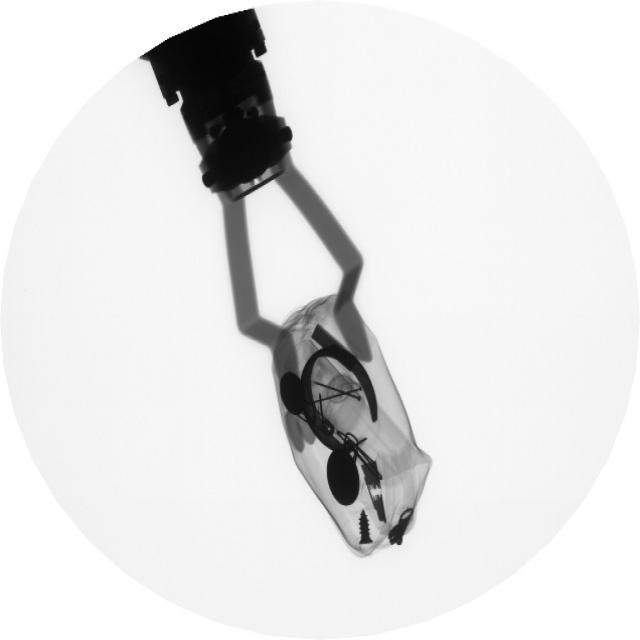GUN: (343, 498, 382, 567)
